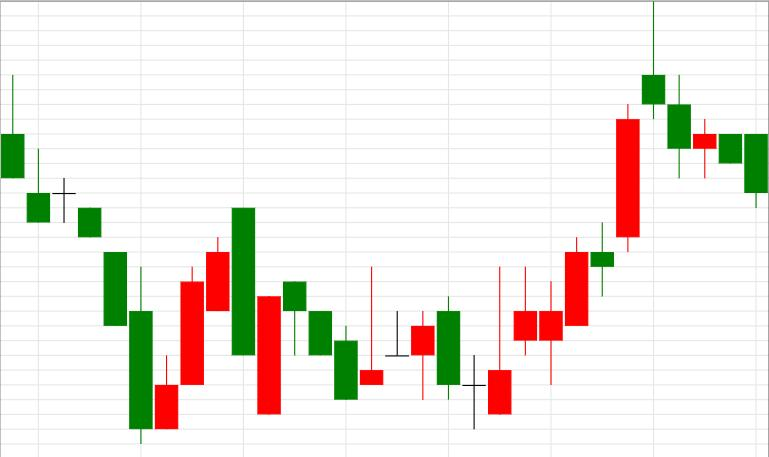bearish_engulfing_fall: (130, 208, 254, 444)
shooting_star_fall: (489, 2, 664, 414)
